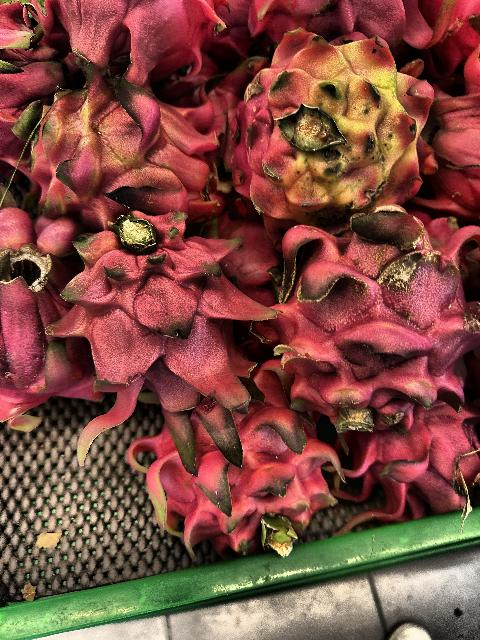buah-naga-belum-matang: (250, 40, 434, 216), (14, 78, 214, 236)
buah-naga-matang: (270, 205, 480, 422), (50, 215, 250, 407), (128, 386, 342, 552), (346, 386, 480, 510)
